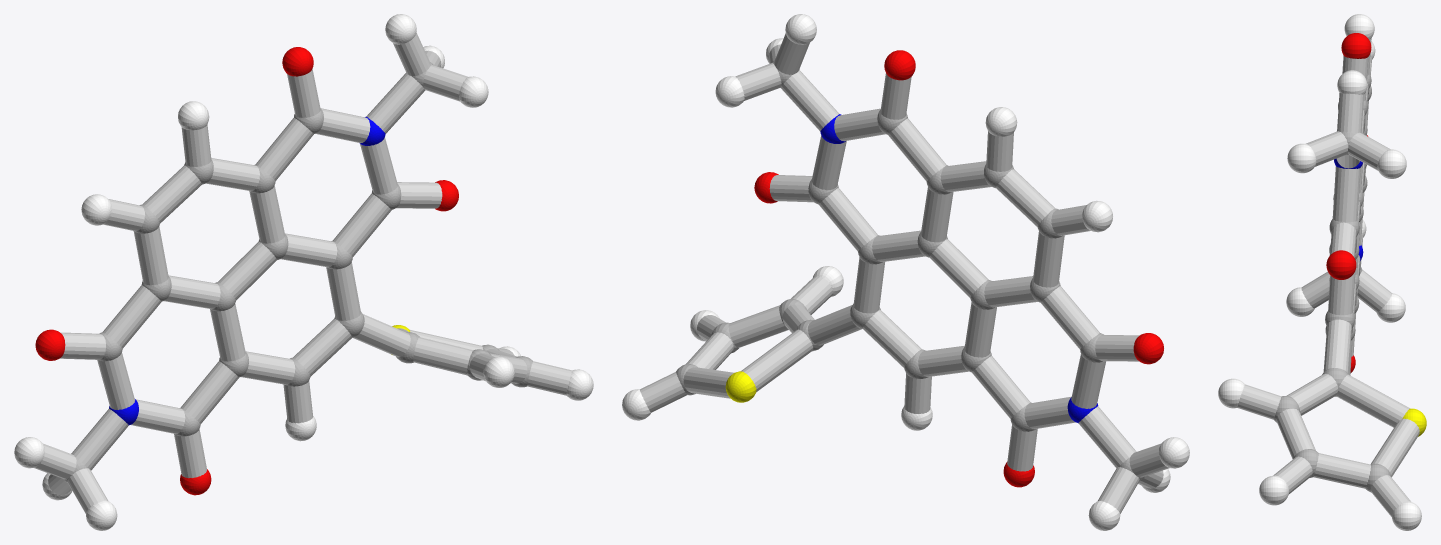
The model's file is Dimethyl_Naphthalene_Dicarboximide_Phi_10_Theta_80_Thiophene.glb.
The picture shows the model from 3 angles, left to right: view 1: azimuth 30°, elevation 25°; view 2: azimuth 150°, elevation 25°; view 3: azimuth 270°, elevation 25°; orthographic projection. The views are drawn at different scales.
Visible parts, largest first — view 1: grp14119, grp7241, grp1, grp12309, grp11585; view 2: grp14119, grp7241, grp1, grp12309, grp13757, grp11585; view 3: grp14119, grp7241, grp1, grp12309, grp13757.
Boxes of the visible parts, x1,y1,x2,y2 form: grp14119: [34, 32, 572, 513]; grp7241: [14, 14, 593, 530]; grp1: [63, 62, 532, 482]; grp12309: [35, 47, 458, 495]; grp11585: [109, 116, 385, 425]; grp14119: [640, 33, 1169, 513]; grp7241: [622, 14, 1189, 530]; grp1: [676, 60, 1144, 480]; grp12309: [754, 50, 1163, 487]; grp13757: [725, 371, 756, 402]; grp11585: [820, 114, 1098, 423]; grp14119: [1237, 38, 1419, 516]; grp7241: [1218, 14, 1421, 530]; grp1: [1274, 73, 1390, 492]; grp12309: [1326, 33, 1371, 372]; grp13757: [1402, 408, 1426, 436].
Size of the model in its own units: 11.76 by 8.87 by 4.16.
